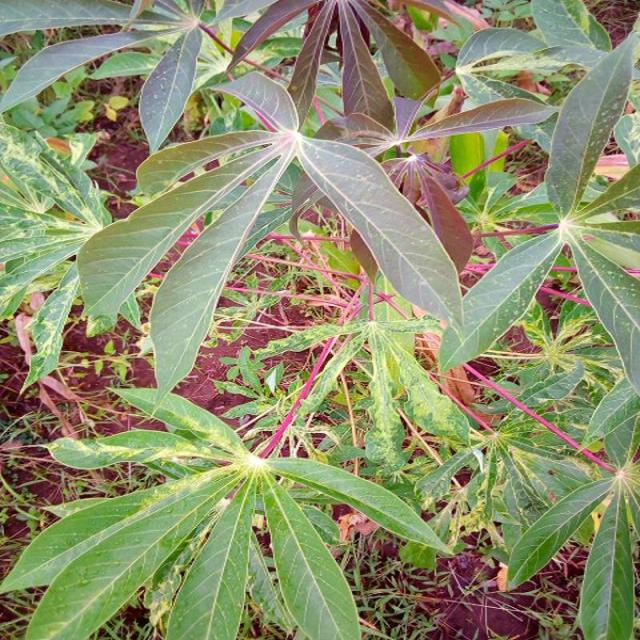cassava leaf: (1, 1, 638, 638), (294, 134, 464, 326)
